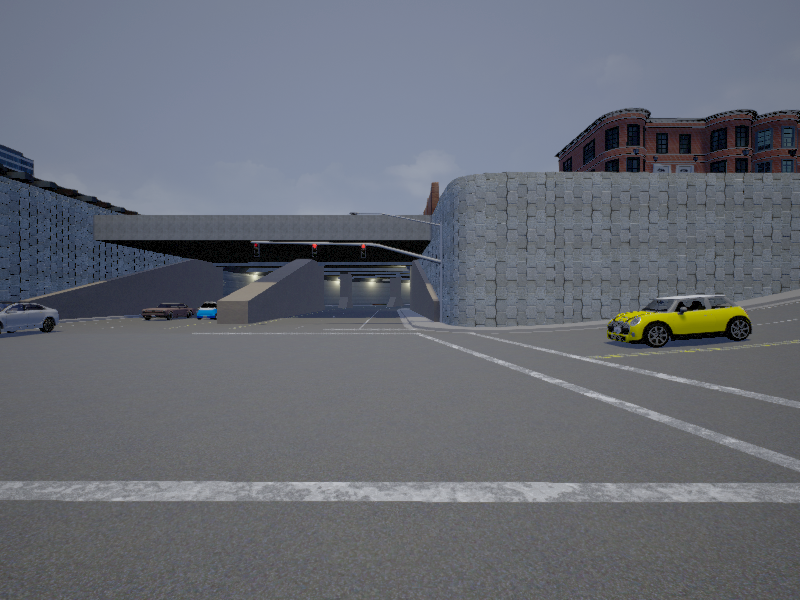Benign: (612, 295, 753, 342), (1, 301, 60, 332), (144, 301, 192, 318), (195, 303, 220, 320)
